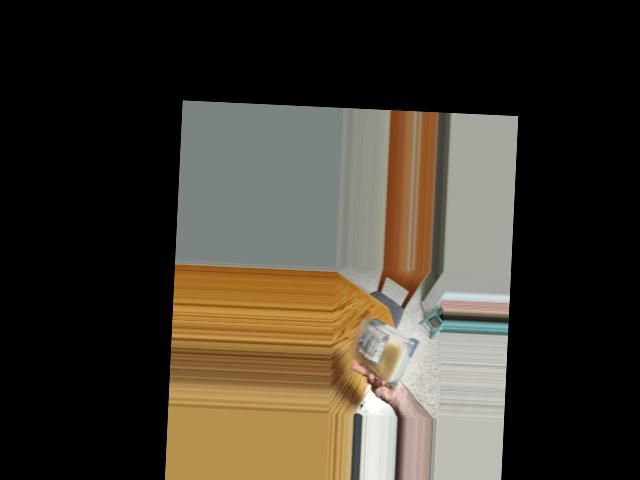cheese: (353, 317, 419, 371)
